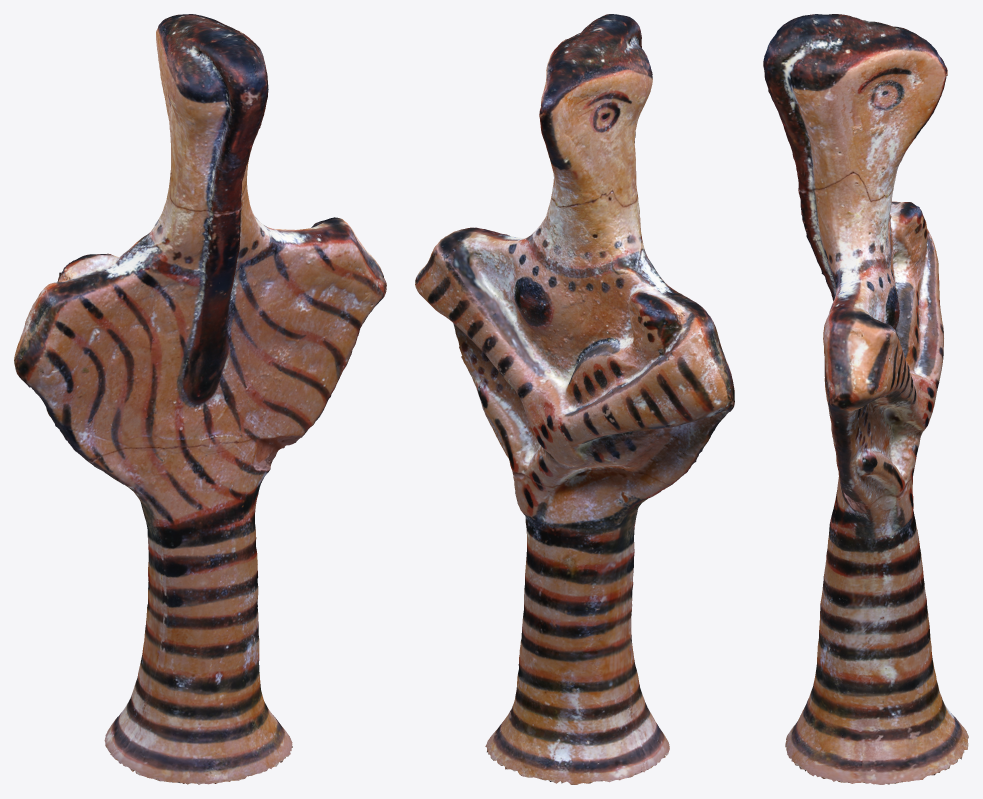
File: greek_idol.glb
3 views of the same model, side by side, from view 1: azimuth 30°, elevation 25°; view 2: azimuth 150°, elevation 25°; view 3: azimuth 270°, elevation 25° (orthographic). The views are drawn at different scales.
Parts seen in each view (by area): view 1: Object_2; view 2: Object_2; view 3: Object_2.
Boxes of the visible parts, left/top/right/bottom form: Object_2: left=14, top=14, right=386, bottom=784; Object_2: left=415, top=14, right=734, bottom=784; Object_2: left=763, top=14, right=968, bottom=784.
Size of the model in its own units: 17.08 by 34.7 by 8.9.
Materials: 1 (1 with a texture image).
